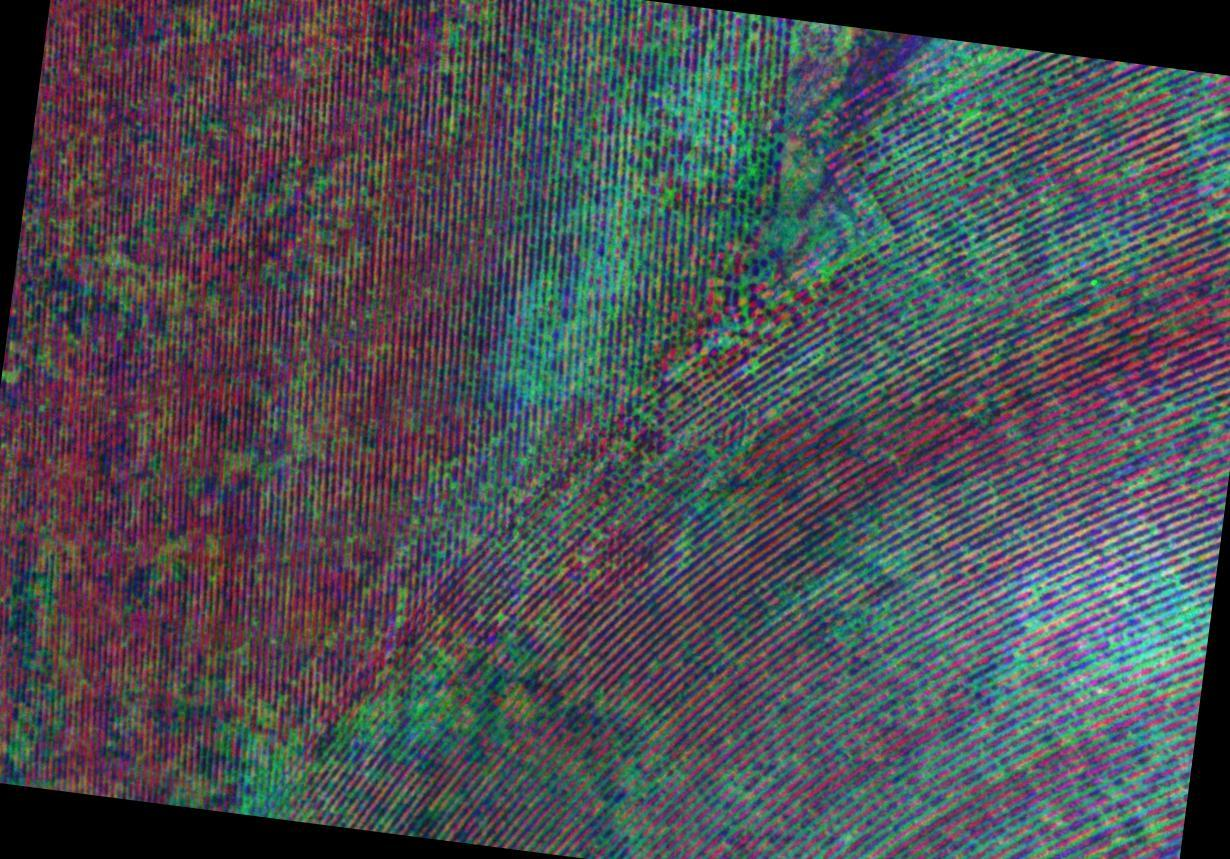dc: (573, 748, 666, 854), (501, 298, 602, 393), (241, 698, 328, 805), (641, 85, 728, 179), (771, 773, 867, 856), (1088, 593, 1194, 664), (846, 523, 921, 620)
